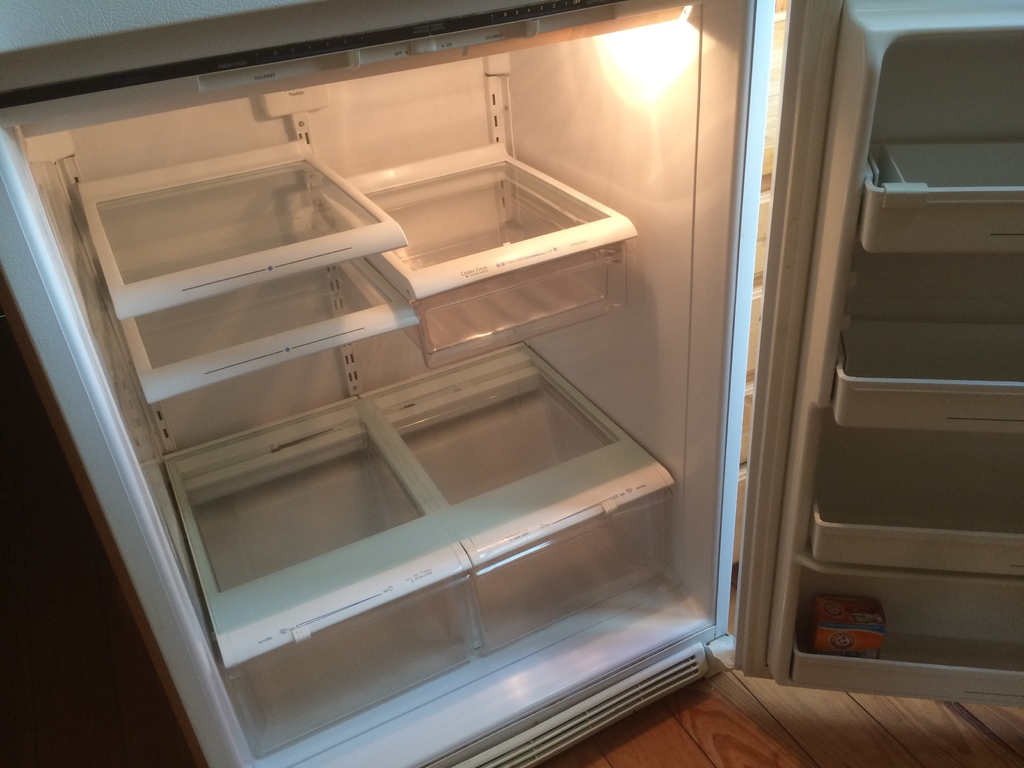refrigerator door: (825, 50, 1024, 665)
